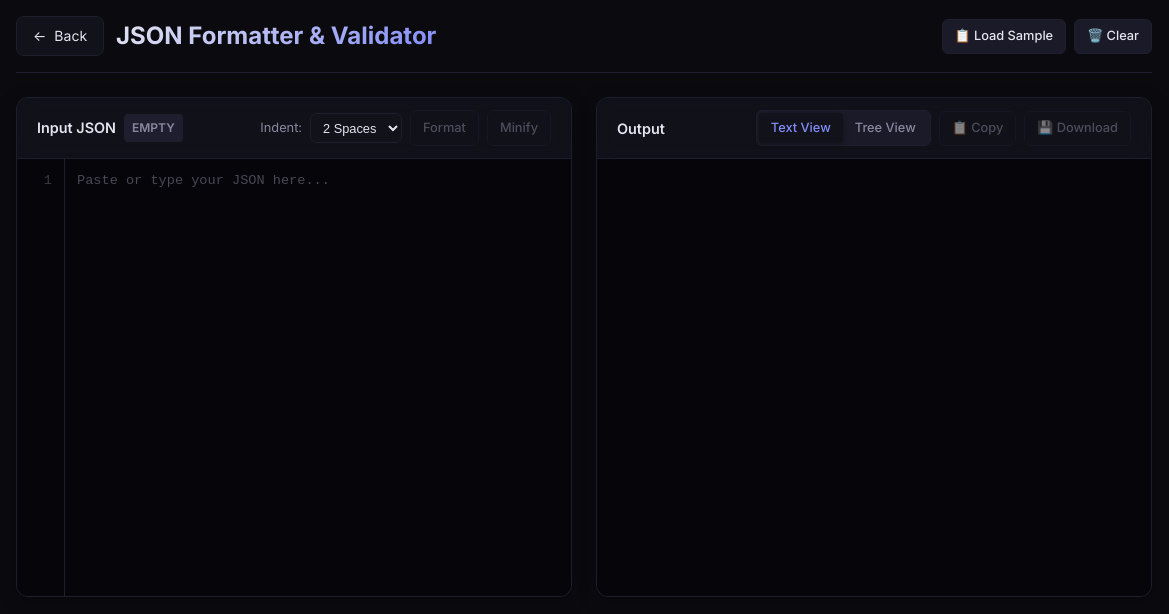
JsonTool Sample Load › loads and displays the sample JSON
The image size is (1169, 614).
Click the button with aria-label "Load sample JSON" at (1004, 36), box [942, 19, 1066, 54]
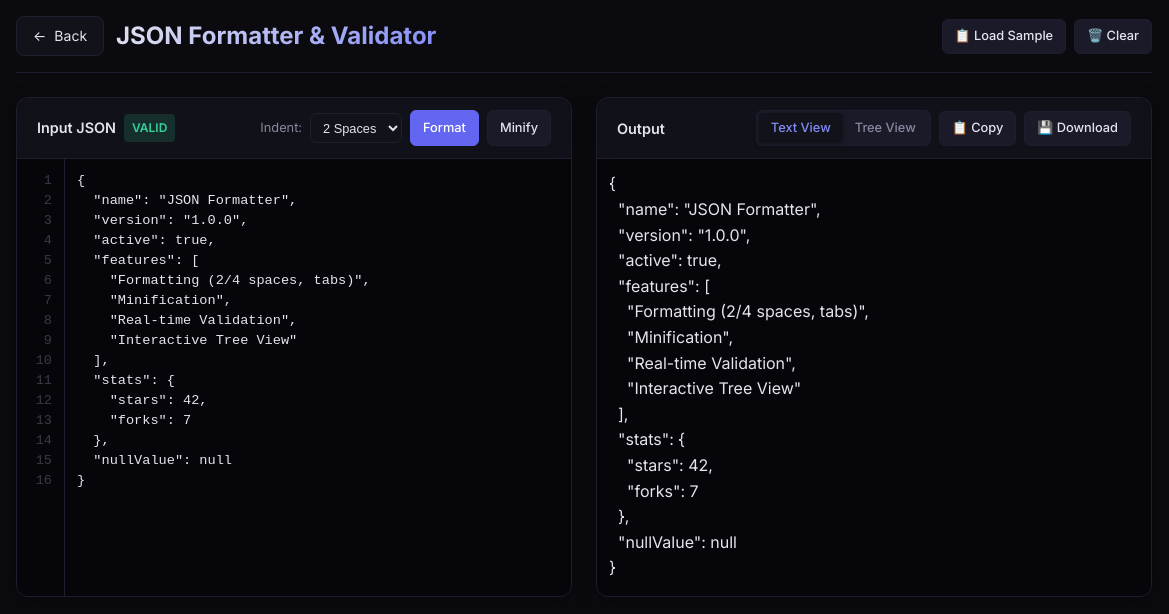
Check: the text "Valid" is shown, box [124, 114, 175, 142]
